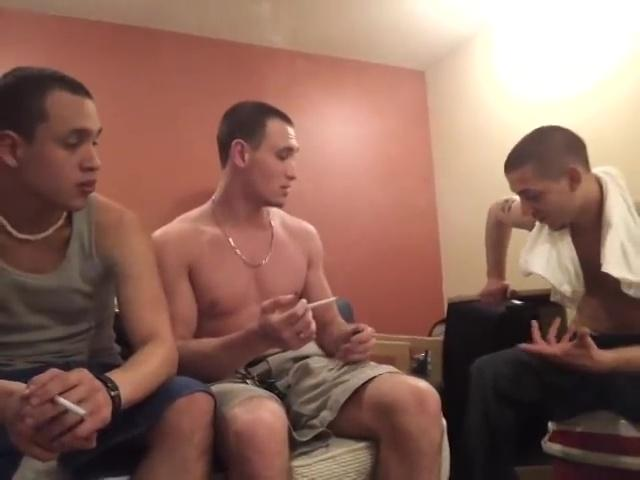cigarette: (51, 394, 96, 422), (305, 294, 338, 314)
